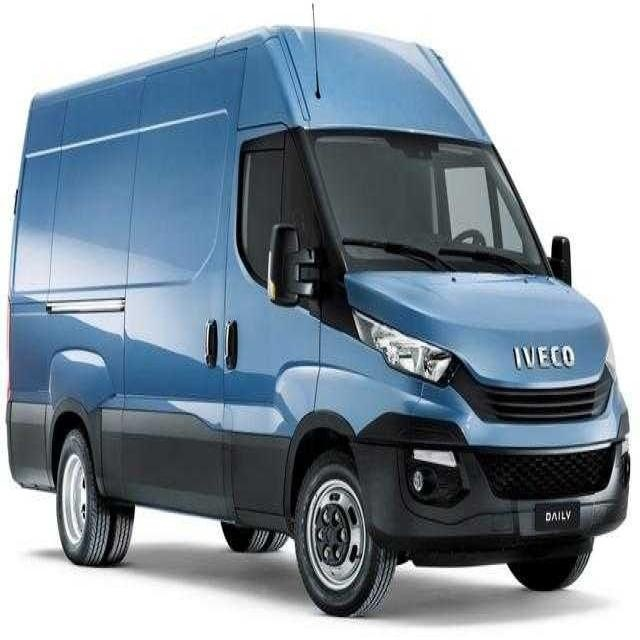Van: (8, 16, 634, 627)
